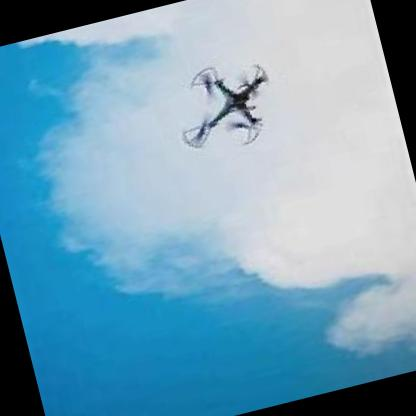drone: (149, 37, 304, 174)
